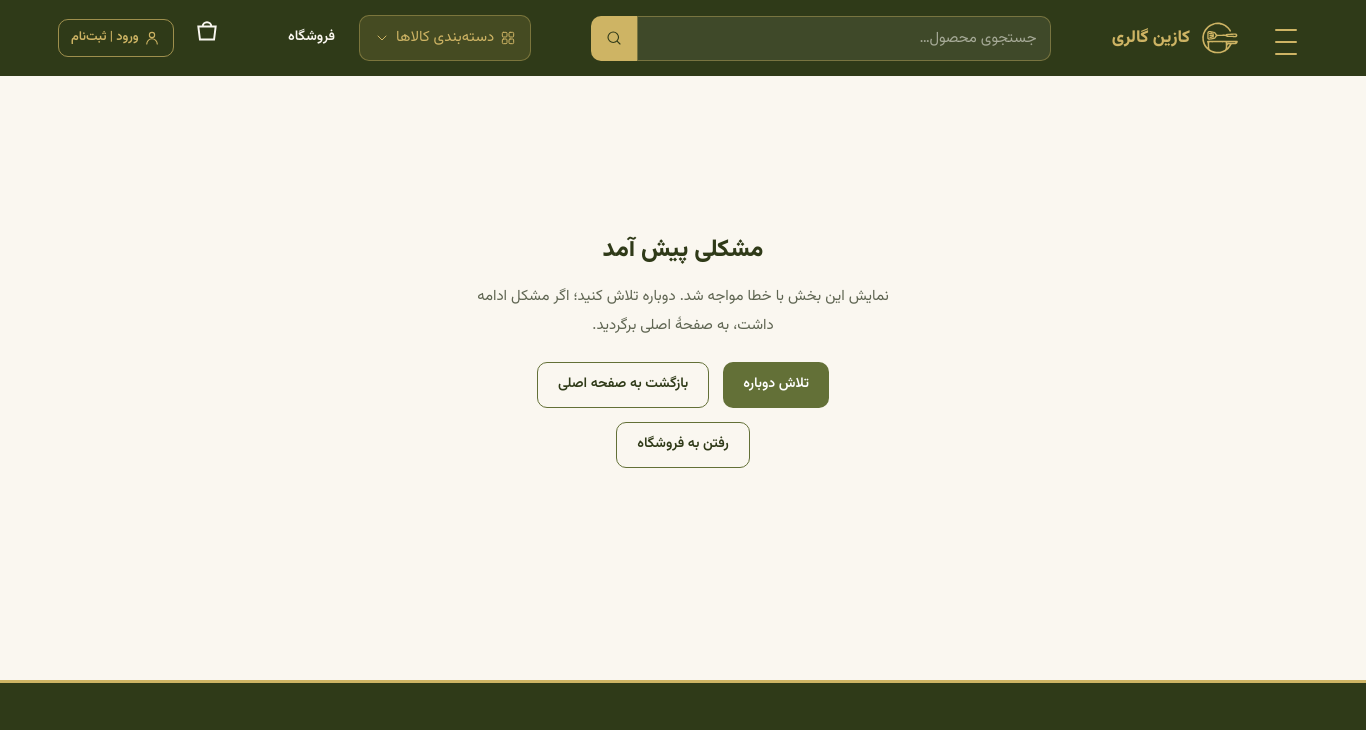
route error recovery navigation › resets the route boundary after navigating with primary navigation
Expected: the heading "مشکلی پیش آمد" is shown, [603,231,763,269]
What coordinates should you click on to do the following:
click the link "فروشگاه"
I would click on:
 (312, 37)
Its box is [288,26,335,48].
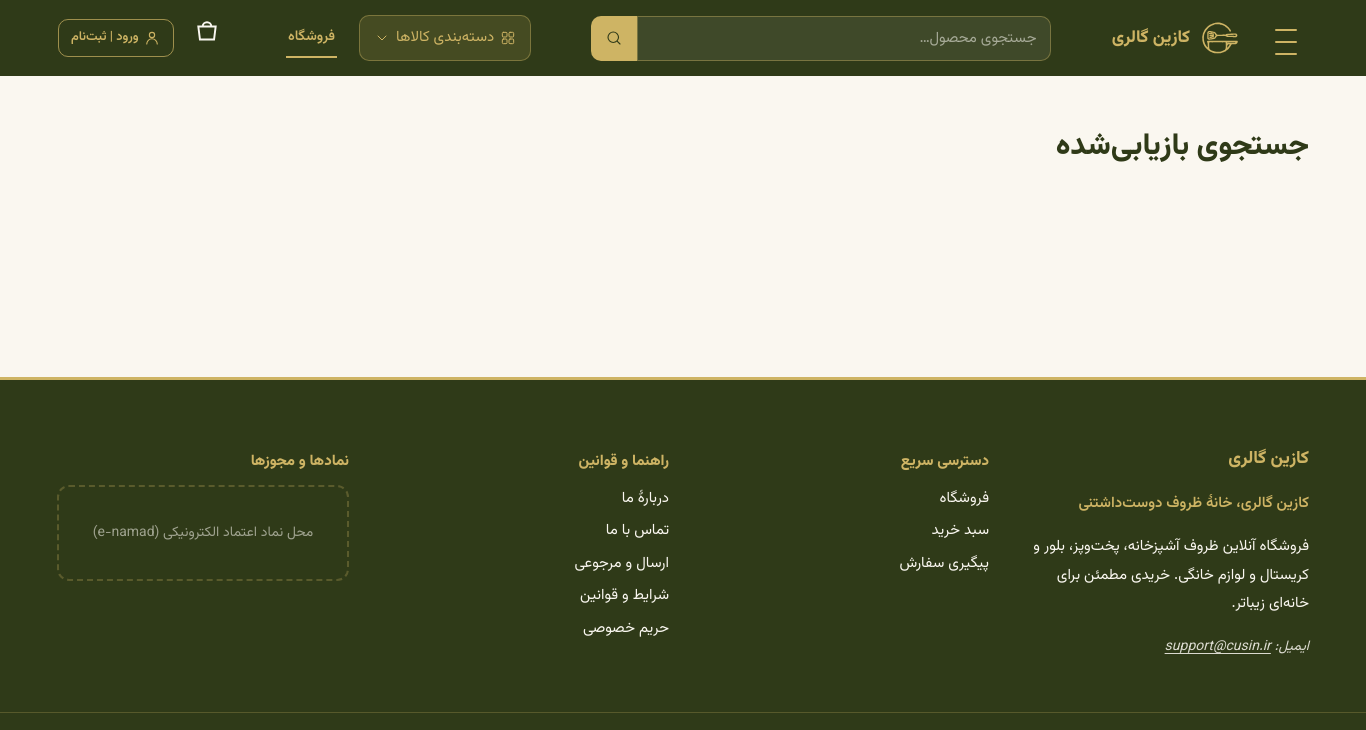
Now the heading "جستجوی بازیابی‌شده" is shown, box [1056,123,1309,170]
Now the heading "مشکلی پیش آمد" is gone
